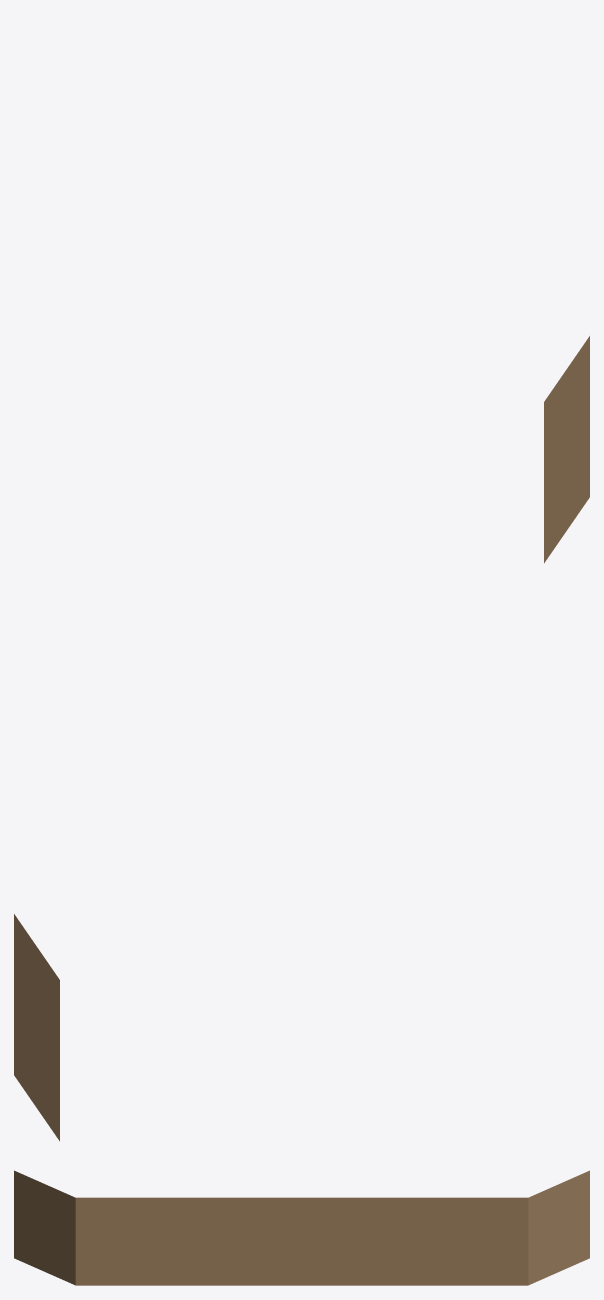
Rendered from 1383-Buildings-shell-pieces-facade-bay-wall-round-an-opening-reveals-sill-head-emitBa.glb.
3 renders of one model, top to bottom at view 1: azimuth 30°, elevation 25°; view 2: azimuth 150°, elevation 25°; view 3: azimuth 270°, elevation 25°, orthographic. The views are drawn at different scales.
Parts seen in each view (by area): view 1: emitBay; view 2: emitBay; view 3: emitBay.
Boxes of the visible parts, x1=… form: emitBay: x1=544, y1=336, x2=589, y2=563; emitBay: x1=14, y1=914, x2=59, y2=1141; emitBay: x1=14, y1=1170, x2=589, y2=1285.
Size of the model in its own units: 2.03 by 3.05 by 18.12.
